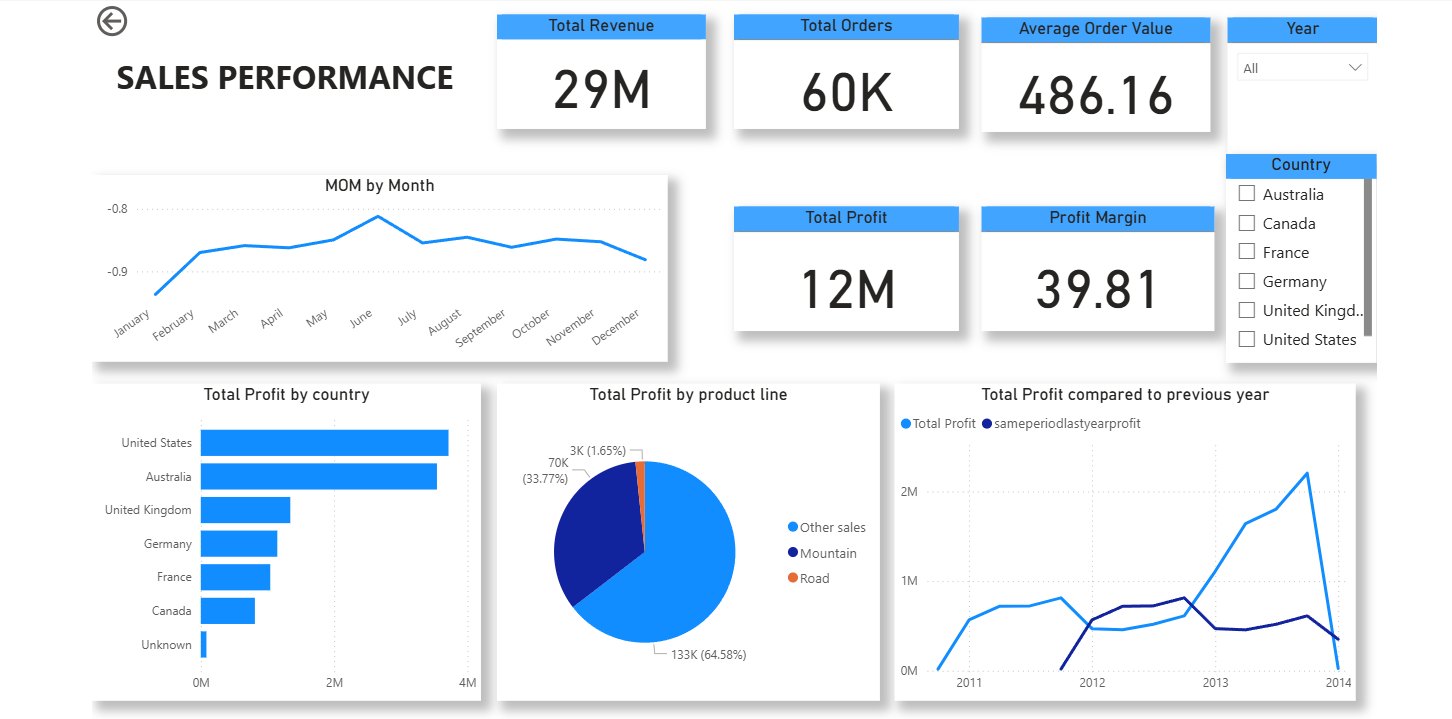

This screenshot's page, from the dashboard's own definition file:
{"tool":"powerbi","page":{"name":"Sales Performance","canvas":[1280,720],"ordinal":1},"visuals":[{"type":"card","title":"Total Revenue","fields":{"Values":["Table.Total_revenue"]},"box":[404,14,208,114],"z":0},{"type":"card","title":"Total Orders","fields":{"Values":["Table.total_orders"]},"box":[639.3,14,223.8,113.9],"z":1000},{"type":"card","title":"Average Order Value","fields":{"Values":["Table.Average Order Value"]},"box":[885.1,16,227.8,113.9],"z":2000},{"type":"card","title":"Total Profit","fields":{"Values":["project sales.Total Profit"]},"box":[640,204,224,124],"z":3000},{"type":"clusteredBarChart","fields":{"Y":["project sales.Total Profit"],"Category":["project customers.country"]},"box":[0,381.6,387.6,315.7],"z":4000},{"type":"pieChart","title":"Total Profit by product line","fields":{"Y":["project sales.Total Profit"],"Category":["clothing.product_line"]},"box":[403.6,381.6,381.6,315.7],"z":5000},{"type":"lineChart","title":"Total Profit compared to previous year","fields":{"Y":["project sales.Total Profit","Table.sameperiodlastyearprofit"],"Category":["Calender.Date.Variation.Date Hierarchy.Year","Calender.Date.Variation.Date Hierarchy.Quarter"]},"box":[799.2,381.6,459.5,315.7],"z":6000},{"type":"card","title":"Profit Margin","fields":{"Values":["Table.Profit Margin"]},"box":[886,204,232,124],"z":7000},{"type":"lineChart","fields":{"Category":["Calender.Date.Variation.Date Hierarchy.Month"],"Y":["Table.MOM"]},"box":[0,173.8,573.4,185.8],"z":8000},{"type":"slicer","title":"Year","fields":{"Values":["Calender.Date.Variation.Date Hierarchy.Year"]},"box":[1130.8,16,149.8,145.9],"z":9000},{"type":"slicer","title":"Country","fields":{"Values":["project customers.country"]},"box":[1130,152,150,208],"z":10000},{"type":"textbox","box":[20,48,368,80],"z":11000},{"type":"actionButton","box":[0,0,100,40],"z":11001}]}

Visuals, with their boxes on the page's 1280x720 design canvas (x1, y1, x2, y2). These are canvas units, not pixel positions in the 1452x719 screenshot, which may show the page scaled, cropped or inside an application window:
"Total Revenue" card: [404,14,612,128]
"Total Orders" card: [639,14,863,128]
"Average Order Value" card: [885,16,1113,130]
"Total Profit" card: [640,204,864,328]
clusteredBarChart - project sales.Total Profit x project customers.country: [0,382,388,697]
"Total Profit by product line" pieChart: [404,382,785,697]
"Total Profit compared to previous year" lineChart: [799,382,1259,697]
"Profit Margin" card: [886,204,1118,328]
lineChart - Calender.Date.Variation.Date Hierarchy.Month x Table.MOM: [0,174,573,360]
"Year" slicer: [1131,16,1281,162]
"Country" slicer: [1130,152,1280,360]
textbox: [20,48,388,128]
actionButton: [0,0,100,40]
